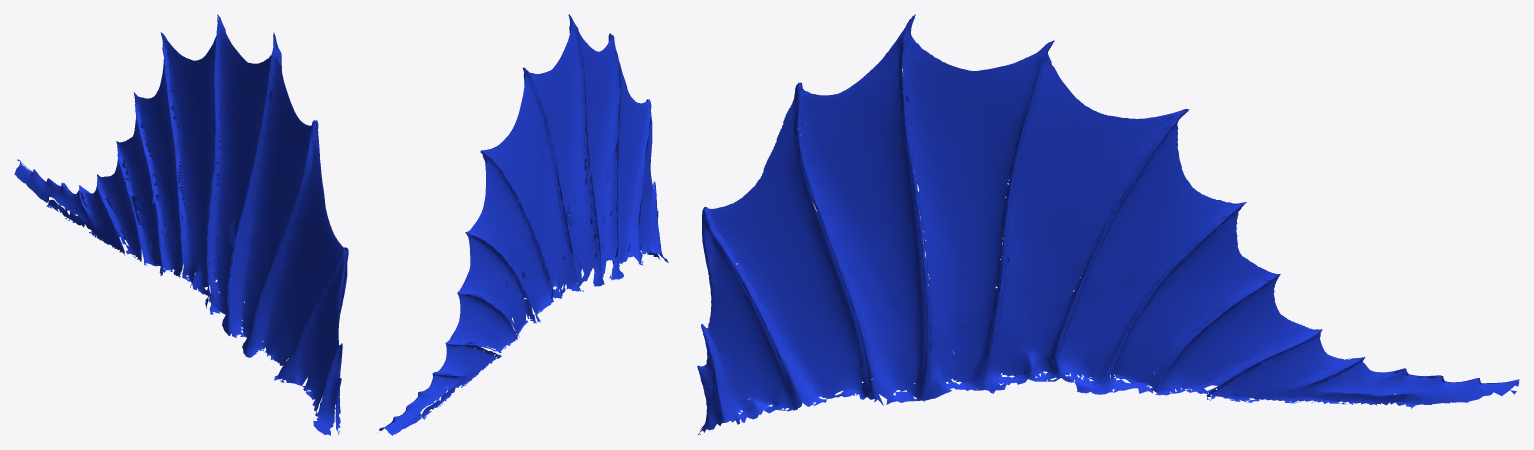
Rendered from Fin_Animation.fbx.
3 renders of one model, left to right at view 1: azimuth 30°, elevation 25°; view 2: azimuth 150°, elevation 25°; view 3: azimuth 270°, elevation 25°, orthographic. The views are drawn at different scales.
Visible parts, largest first — view 1: Object_2.002; view 2: Object_2.002; view 3: Object_2.002.
Boxes of the visible parts, left/top/right/bottom form: Object_2.002: left=14, top=14, right=348, bottom=435; Object_2.002: left=377, top=14, right=668, bottom=435; Object_2.002: left=697, top=14, right=1519, bottom=435.
Bounding box in the file's own units: 11.04 × 69.3 × 119.
